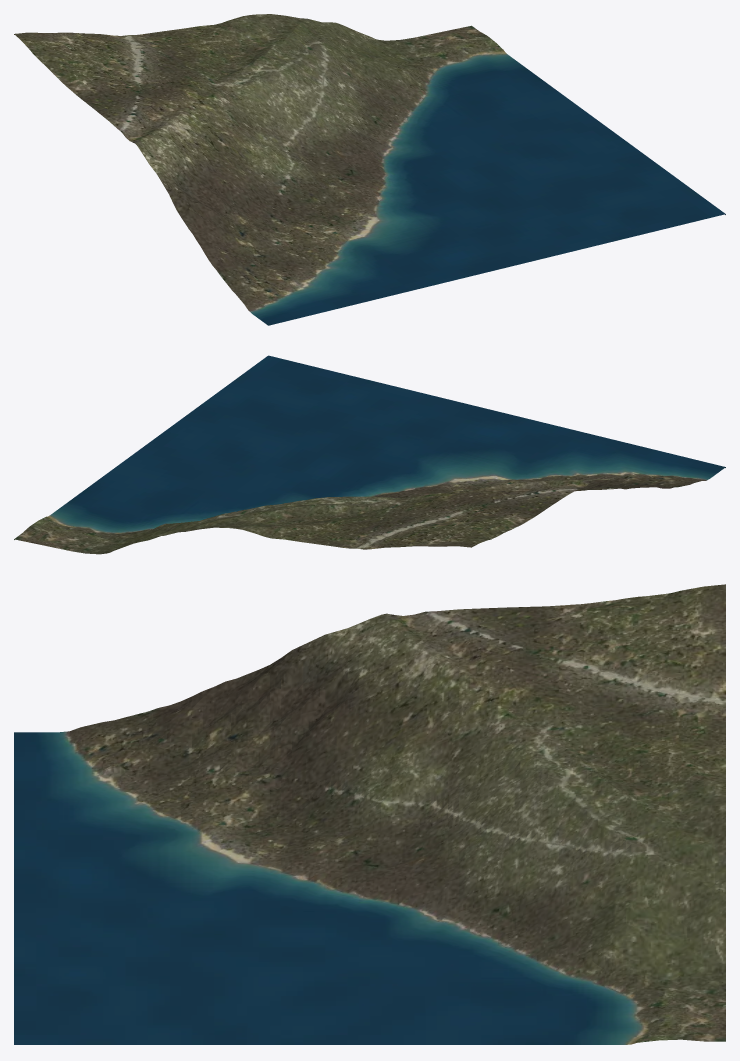
3 renders of one model, top to bottom at view 1: azimuth 30°, elevation 25°; view 2: azimuth 150°, elevation 25°; view 3: azimuth 270°, elevation 25°, orthographic. The views are drawn at different scales.
Size of the model in its own units: 1000 by 223 by 963.
1 material, 1 textured.
